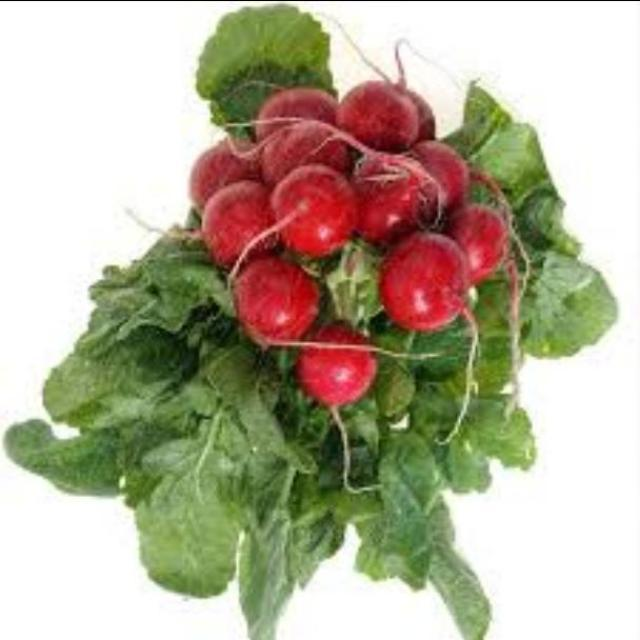rediska: (169, 69, 549, 438)
